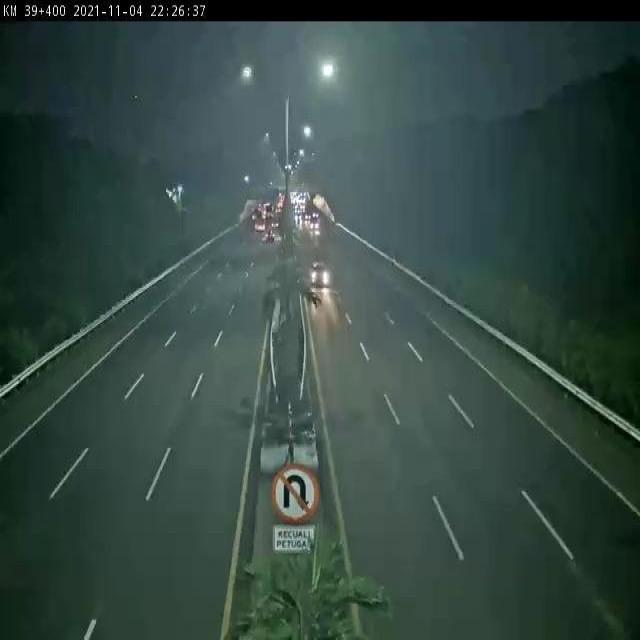car: (304, 247, 343, 300)
